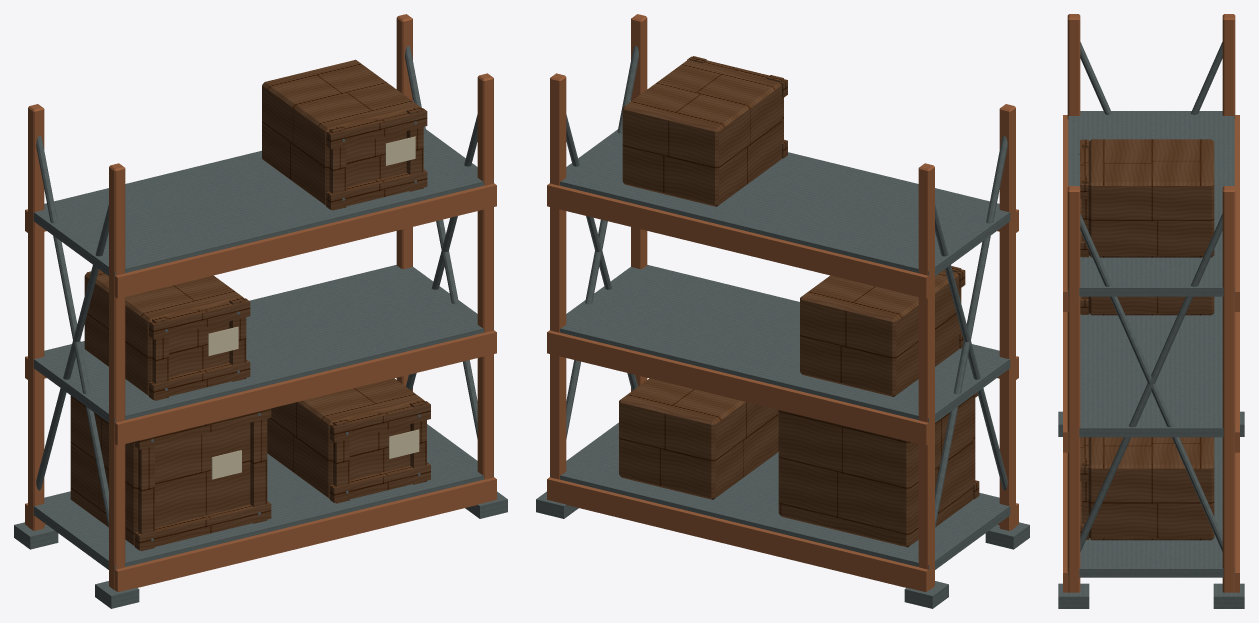
Rendered from shelf-loaded.glb.
The picture shows the model from 3 angles, left to right: view 1: azimuth 30°, elevation 25°; view 2: azimuth 150°, elevation 25°; view 3: azimuth 270°, elevation 25°; orthographic projection. The views are drawn at different scales.
Parts seen in each view (by area): view 1: Shelf steel deck.001, Shelf steel deck.002, Crate boards.003, Crate boards, Shelf steel deck, Crate boards.001, Shelf load beam.004, Shelf load beam.002, Shelf load beam, Crate boards.002, L shelf post, L shelf post.001 (+28 smaller); view 2: Shelf steel deck.001, Shelf steel deck.002, Crate boards, Crate boards.003, Crate boards.001, Crate boards.002, Shelf steel deck, Shelf load beam.003, Shelf load beam.005, Shelf load beam.001, L shelf post.001, L shelf post (+8 smaller); view 3: Shelf steel deck.001, Crate boards.003, Shelf steel deck.002, Crate boards.001, Shelf steel deck, L shelf post.002, L shelf post.003, Shelf cross bracing.002, Shelf cross bracing.003, Crate boards.002, L shelf post, L shelf post.001 (+14 smaller).
Part boxes in pixels (x1,y1,x2,y2): Shelf steel deck.001: (33, 265, 493, 427); Shelf steel deck.002: (33, 129, 493, 280); Crate boards.003: (262, 59, 420, 205); Crate boards: (70, 395, 250, 546); Shelf steel deck: (33, 424, 493, 574); Crate boards.001: (267, 378, 424, 498); Shelf load beam.004: (114, 183, 496, 298); Shelf load beam.002: (114, 330, 496, 445); Shelf load beam: (114, 477, 496, 591); Crate boards.002: (84, 269, 243, 395); L shelf post: (109, 163, 125, 589); L shelf post.001: (28, 104, 44, 530); Shelf steel deck.001: (550, 265, 1010, 422); Shelf steel deck.002: (550, 129, 1010, 275); Crate boards: (778, 395, 973, 547); Crate boards.003: (622, 59, 781, 206); Crate boards.001: (619, 378, 778, 499); Crate boards.002: (800, 269, 959, 396); Shelf steel deck: (550, 422, 1010, 569); Shelf load beam.003: (547, 330, 929, 445); Shelf load beam.005: (547, 183, 929, 298); Shelf load beam.001: (547, 477, 929, 591); L shelf post.001: (918, 163, 934, 589); L shelf post: (999, 104, 1015, 530); Shelf steel deck.001: (1068, 296, 1234, 437); Crate boards.003: (1088, 139, 1214, 257); Shelf steel deck.002: (1068, 111, 1234, 296); Crate boards.001: (1088, 437, 1214, 540); Shelf steel deck: (1068, 437, 1234, 577); L shelf post.002: (1067, 186, 1080, 592); L shelf post.003: (1222, 186, 1235, 592); Shelf cross bracing.002: (1080, 214, 1222, 551); Shelf cross bracing.003: (1080, 214, 1222, 551); Crate boards.002: (1088, 296, 1214, 315); L shelf post: (1067, 14, 1080, 119); L shelf post.001: (1222, 14, 1235, 119).
Size of the model in its own units: 2.26 by 2.36 by 0.96.
Materials: 4 (2 with a texture image).
